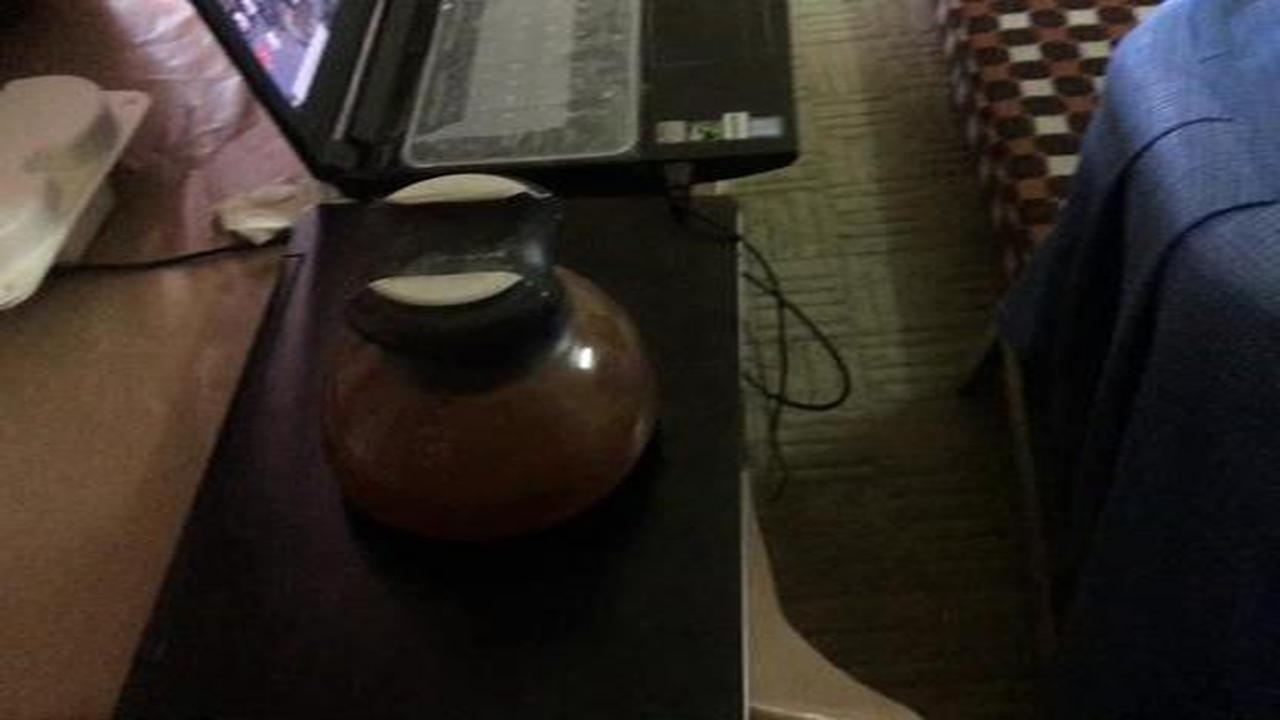insulator_pin: (290, 155, 681, 575)
